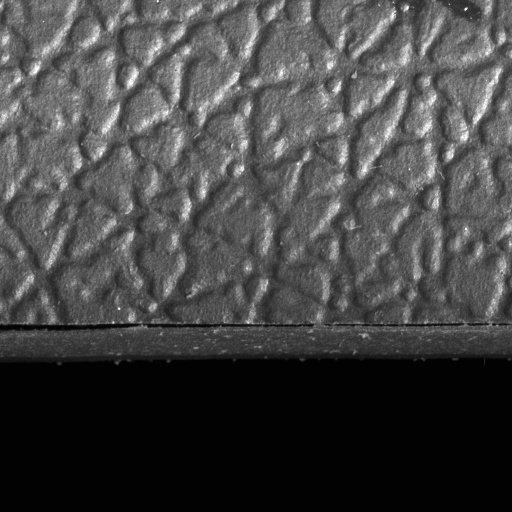jiaofeng: (0, 318, 312, 340), (326, 318, 511, 339)
